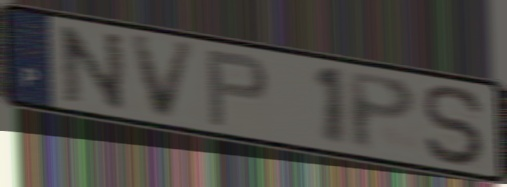1: (310, 64, 349, 146)
N: (55, 23, 129, 114)
P: (344, 68, 421, 154), (203, 48, 272, 130)
S: (420, 82, 490, 170)
V: (127, 34, 201, 122)
